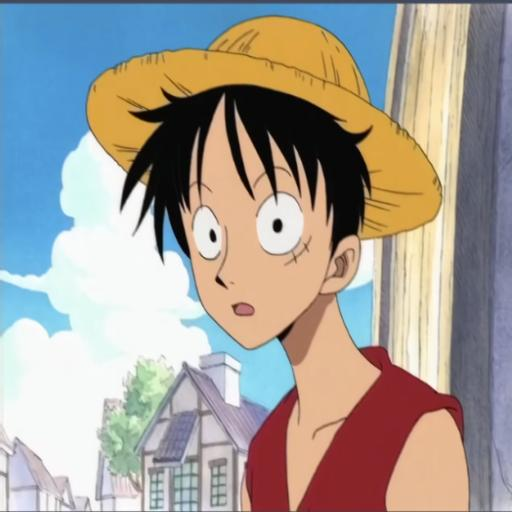Luffy: (95, 0, 476, 512)
